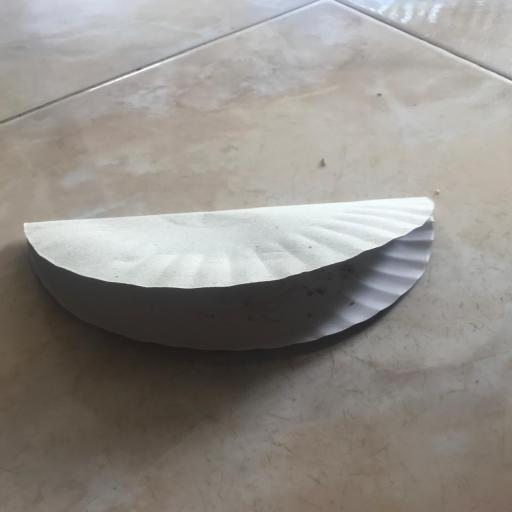waste: (15, 178, 457, 362)
